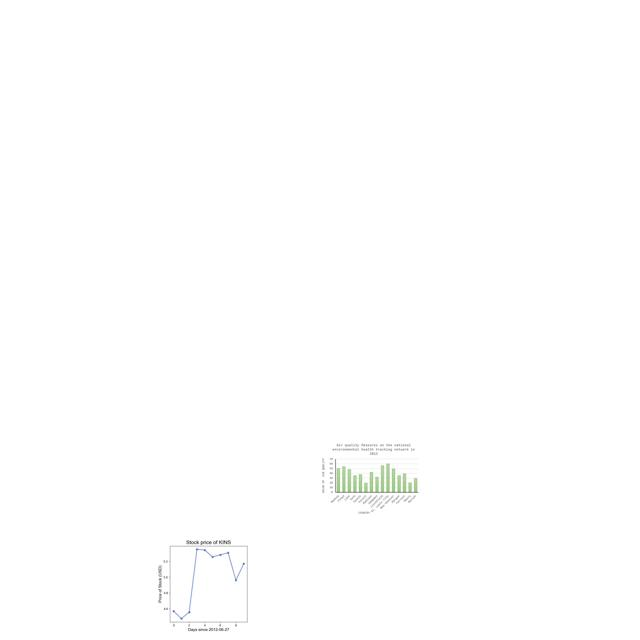Graph: (141, 534, 273, 633), (316, 442, 422, 516)
